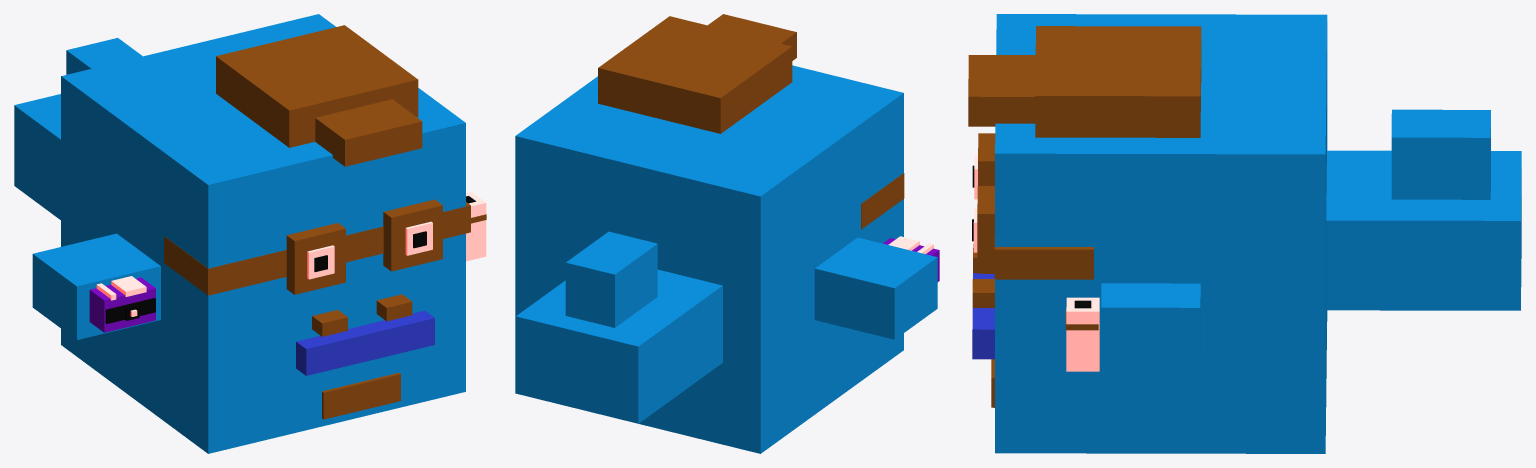
The model's file is boss3.fbx.
3 views of the same model, side by side, from view 1: azimuth 30°, elevation 25°; view 2: azimuth 150°, elevation 25°; view 3: azimuth 270°, elevation 25° (orthographic). The views are drawn at different scales.
Visible parts, largest first — view 1: Cube, Cube__6_, Cube__15_, Cube__10_, Cube__7_, Cube__11_, Cube__1_, Cube__2_, Cube__3_, Cube__14_, Cube__20_, Cube__19_ (+7 smaller); view 2: Cube, Cube__1_, Cube__6_, Cube__15_, Cube__19_, Cube__7_, Cube__10_; view 3: Cube, Cube__1_, Cube__6_, Cube__19_, Cube__15_, Cube__7_, Cube__10_, Cube__16_, Cube__3_, Cube__11_, Cube__2_, Cube__13_.
Part boxes in pixels (x1,y1,x2,y2): Cube: (61,14,465,453); Cube__6_: (216,25,418,147); Cube__15_: (32,233,160,339); Cube__10_: (164,202,470,295); Cube__7_: (315,99,422,166); Cube__11_: (296,310,434,375); Cube__1_: (14,94,60,219); Cube__2_: (286,223,345,294); Cube__3_: (383,199,442,271); Cube__14_: (322,373,400,419); Cube__20_: (89,277,155,332); Cube__19_: (66,38,142,74); Cube: (515,65,903,453); Cube__1_: (515,269,722,423); Cube__6_: (598,16,792,133); Cube__15_: (814,237,937,339); Cube__19_: (565,231,657,327); Cube__7_: (708,14,796,60); Cube__10_: (861,173,904,229); Cube: (995,14,1327,453); Cube__1_: (1326,150,1521,310); Cube__6_: (1035,26,1201,137); Cube__19_: (1391,109,1490,199); Cube__15_: (1101,283,1200,367); Cube__7_: (968,55,1035,126); Cube__10_: (994,237,1093,279); Cube__16_: (1066,297,1099,371); Cube__3_: (977,186,994,273); Cube__11_: (972,273,994,359); Cube__2_: (978,133,995,185); Cube__13_: (972,279,994,307).
Size of the model in its own units: 918 by 683 by 1004.
